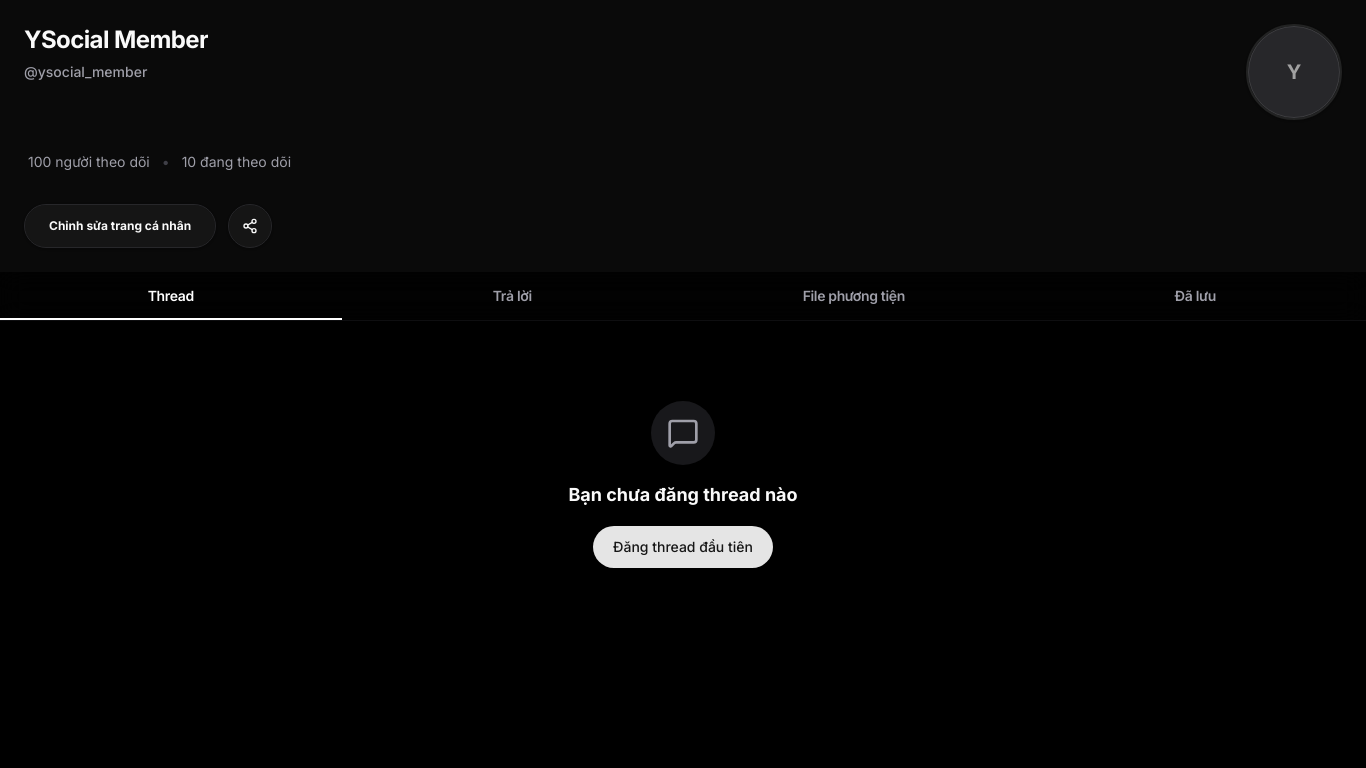
Scenario: ProfileContainer follow & edit › upserts the service's returned projection, not the raw submitted patch
Click the button "Chỉnh sửa trang cá nhân".
click(120, 226)  # box top-left (24, 204), bottom-right (216, 248)
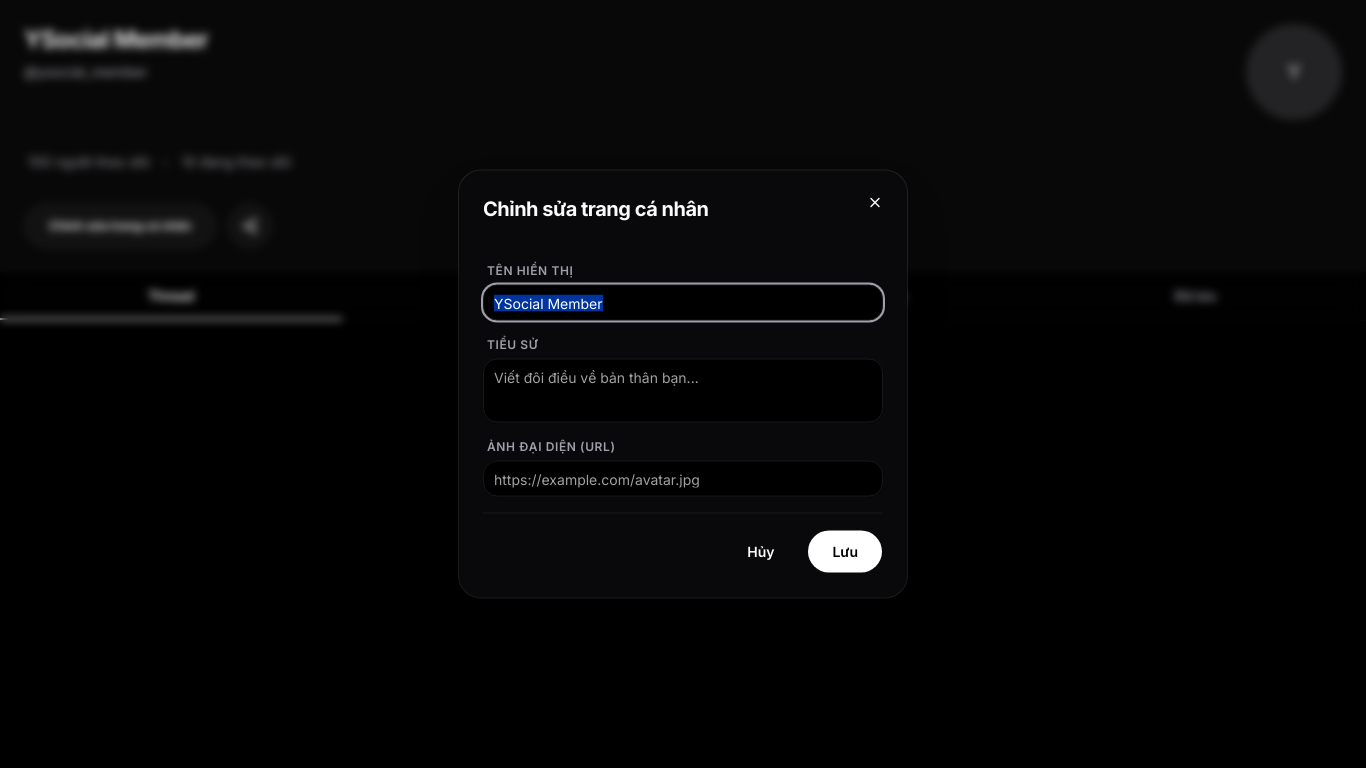
Replace the text in the field labelled "Tên hiển thị" with "Tên Nhập Vào" at (683,302), box top-left (483, 284), bottom-right (883, 320)
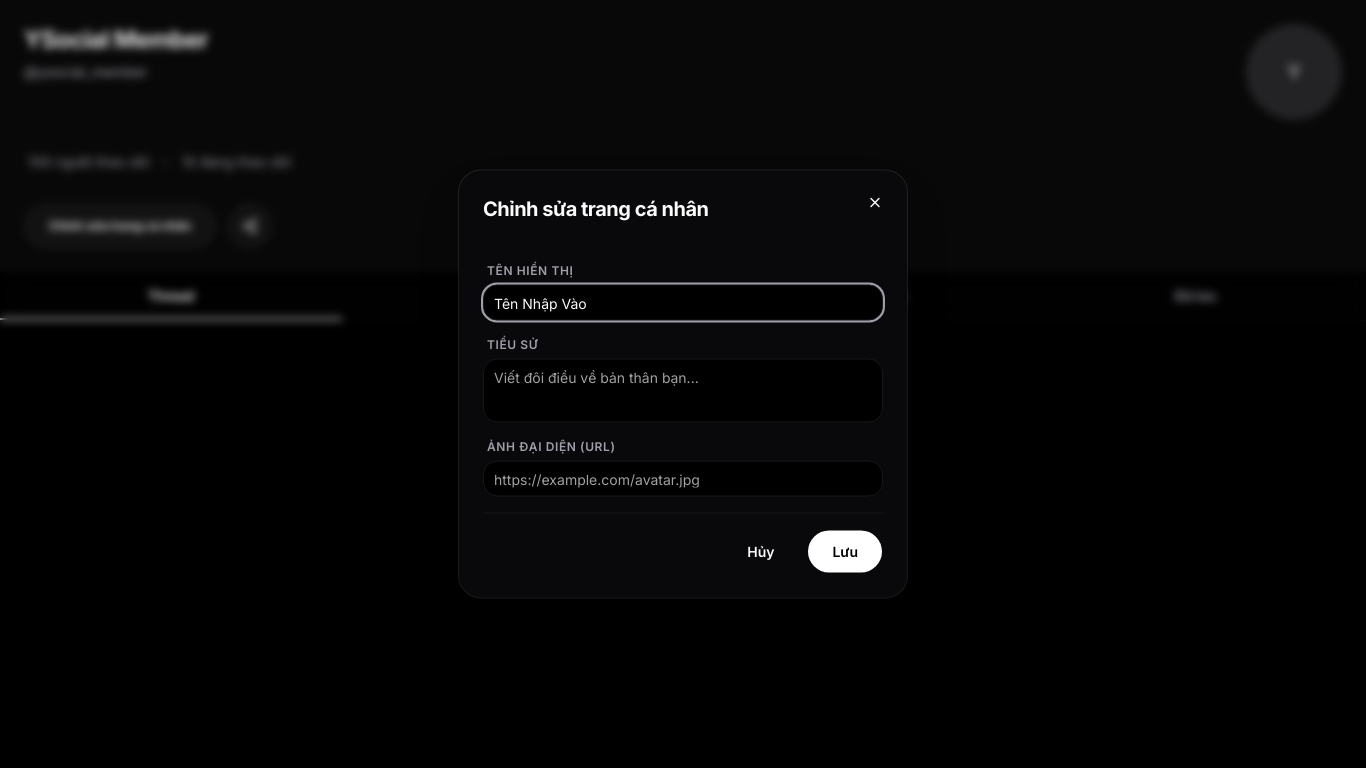
Click the button "Lưu".
click(845, 552)  # box top-left (808, 530), bottom-right (883, 574)
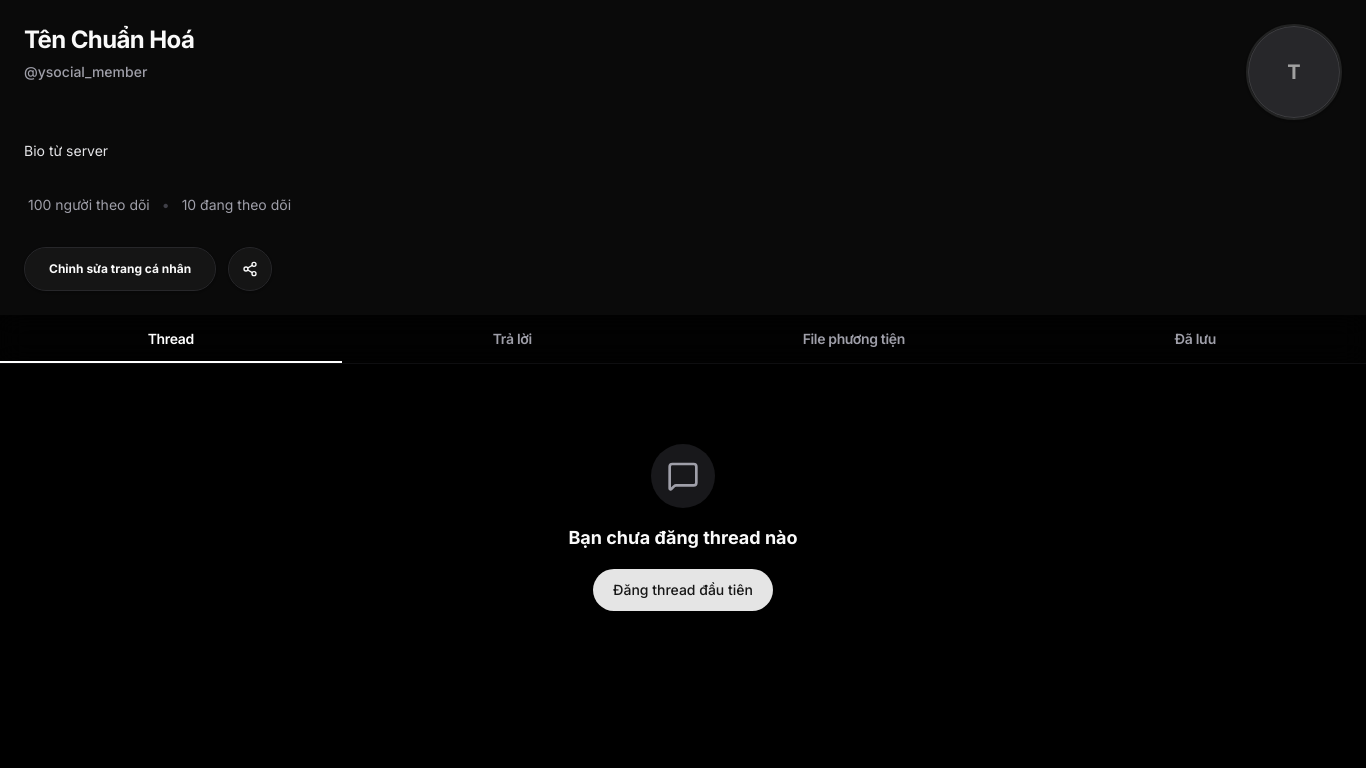
Check: the heading "Tên Chuẩn Hoá" is shown, box top-left (24, 24), bottom-right (194, 56)
Check: the text "Bio từ server" is shown, box top-left (24, 142), bottom-right (108, 159)
